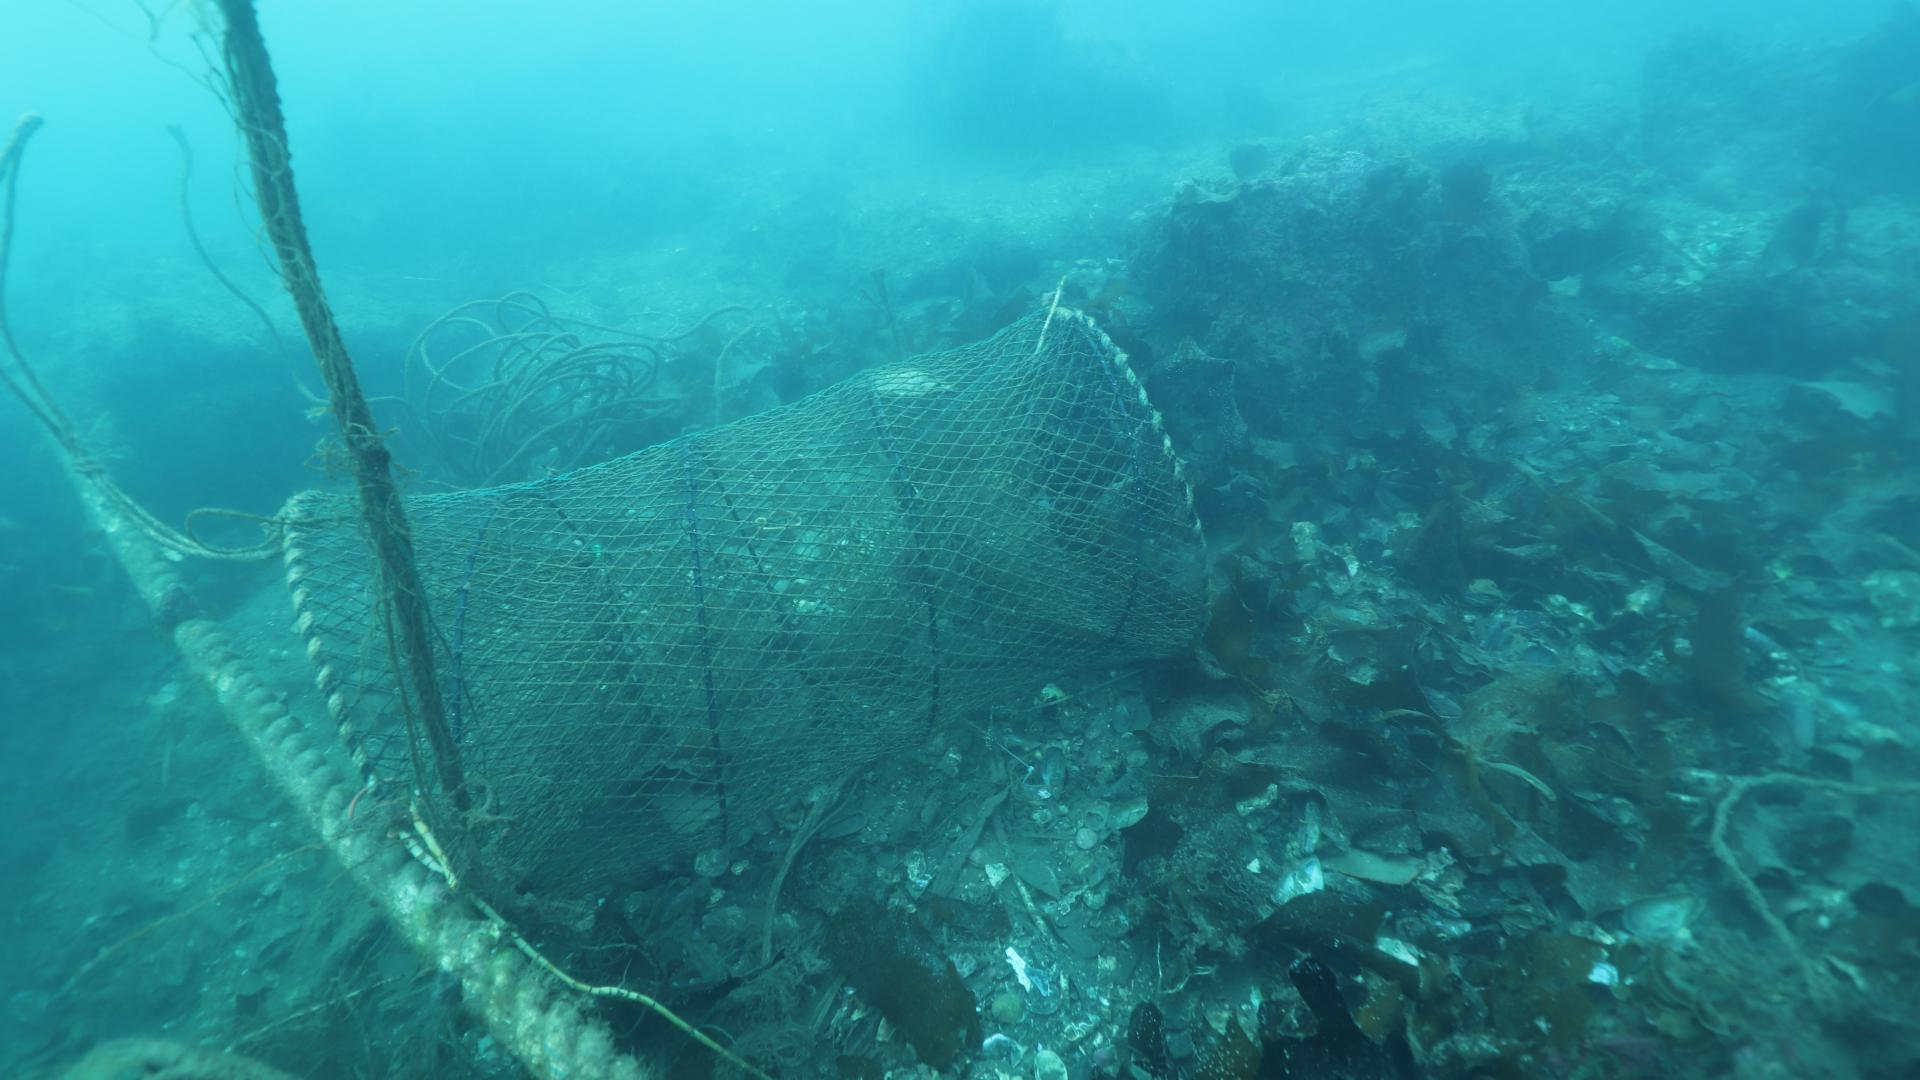bundle of ropes: (164, 123, 758, 487), (0, 113, 276, 563)
rope: (108, 524, 655, 1080), (182, 506, 357, 556)
spring fish trap: (280, 302, 1215, 916)
